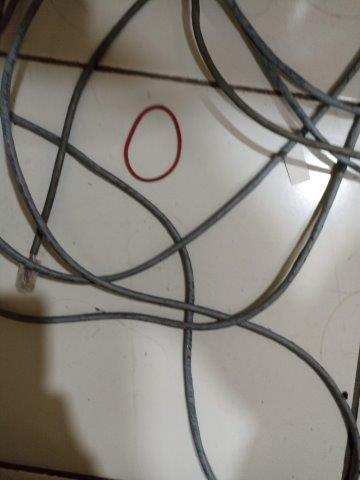karet: (123, 104, 182, 183)
